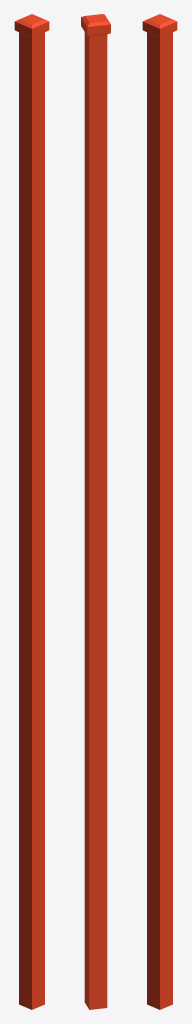
File: SM_Fence_Chainlink_Pillar_Tall_City.fbx
3 renders of one model, left to right at view 1: azimuth 90°, elevation 25°; view 2: azimuth 150°, elevation 25°; view 3: azimuth 270°, elevation 25°, orthographic.
Parts seen in each view (by area): view 1: SM_Fence_Chainlink_Pillar_Tall_City; view 2: SM_Fence_Chainlink_Pillar_Tall_City; view 3: SM_Fence_Chainlink_Pillar_Tall_City.
Boxes of the visible parts, x1=… form: SM_Fence_Chainlink_Pillar_Tall_City: x1=14, y1=14, x2=49, y2=1009; SM_Fence_Chainlink_Pillar_Tall_City: x1=81, y1=14, x2=110, y2=1009; SM_Fence_Chainlink_Pillar_Tall_City: x1=142, y1=14, x2=177, y2=1009.
Bounding box in the file's own units: 0.1295 × 4.05 × 0.1295.
